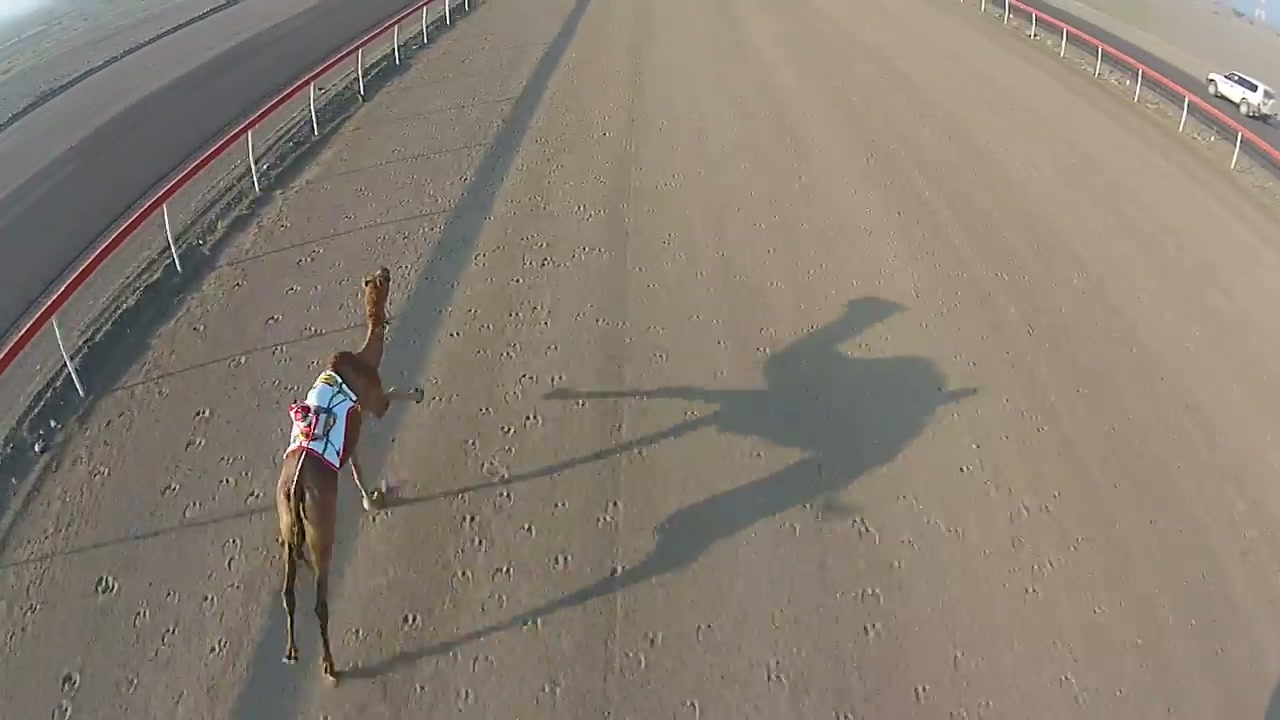animal_foot_print: (17, 207, 358, 718), (362, 280, 615, 719)
